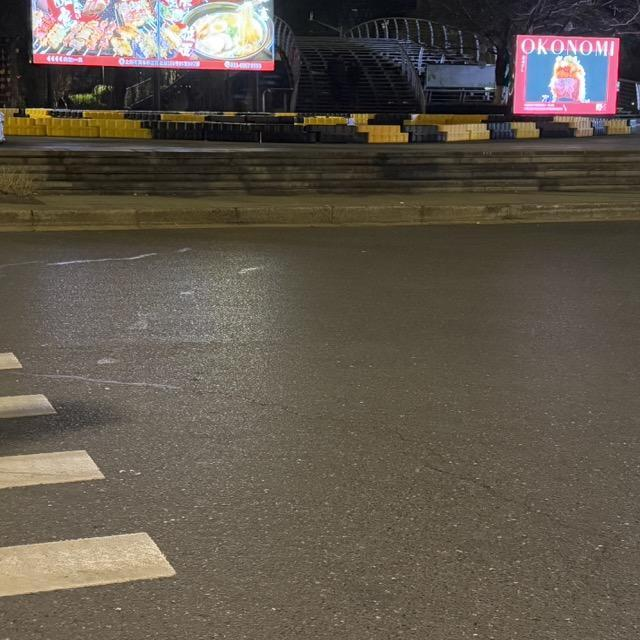curb: (2, 110, 639, 143), (0, 201, 639, 231)
